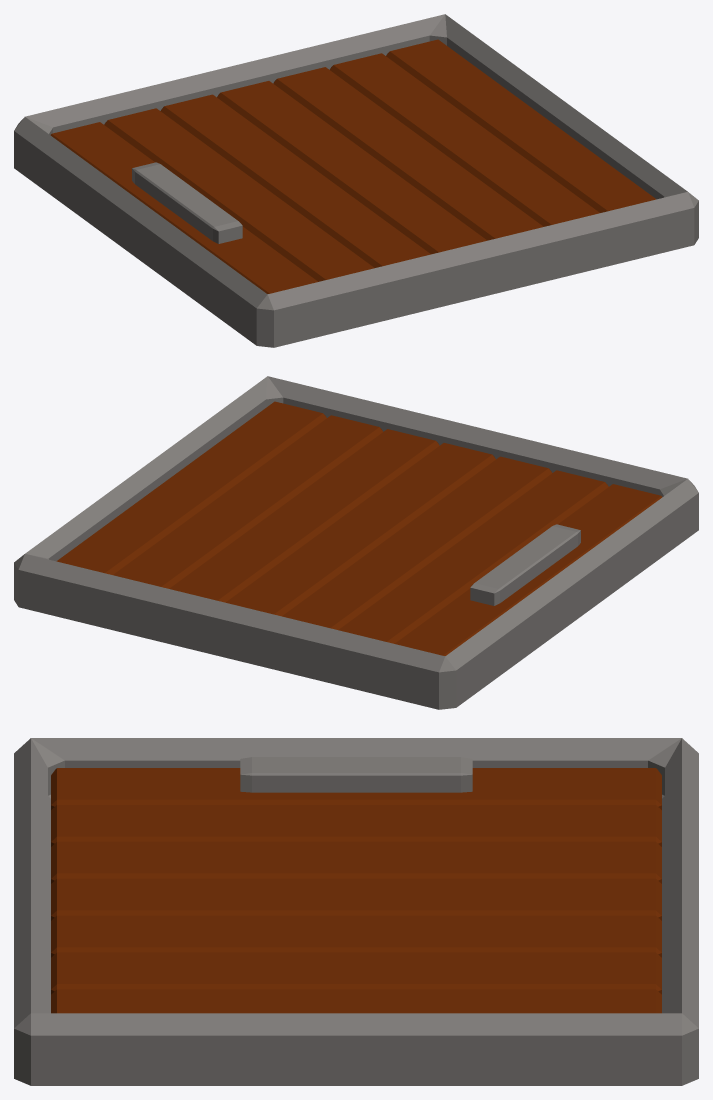
The model's file is kapak.fbx.
3 views of the same model, one above another, from view 1: azimuth 30°, elevation 25°; view 2: azimuth 150°, elevation 25°; view 3: azimuth 270°, elevation 25° (orthographic). The views are drawn at different scales.
Parts seen in each view (by area): view 1: Plane.001; view 2: Plane.001; view 3: Plane.001.
Boxes of the visible parts, left/top/right/bottom form: Plane.001: left=14, top=14, right=698, bottom=347; Plane.001: left=14, top=376, right=698, bottom=709; Plane.001: left=14, top=738, right=698, bottom=1085.
Bounding box in the file's own units: 673 × 71.06 × 673.
